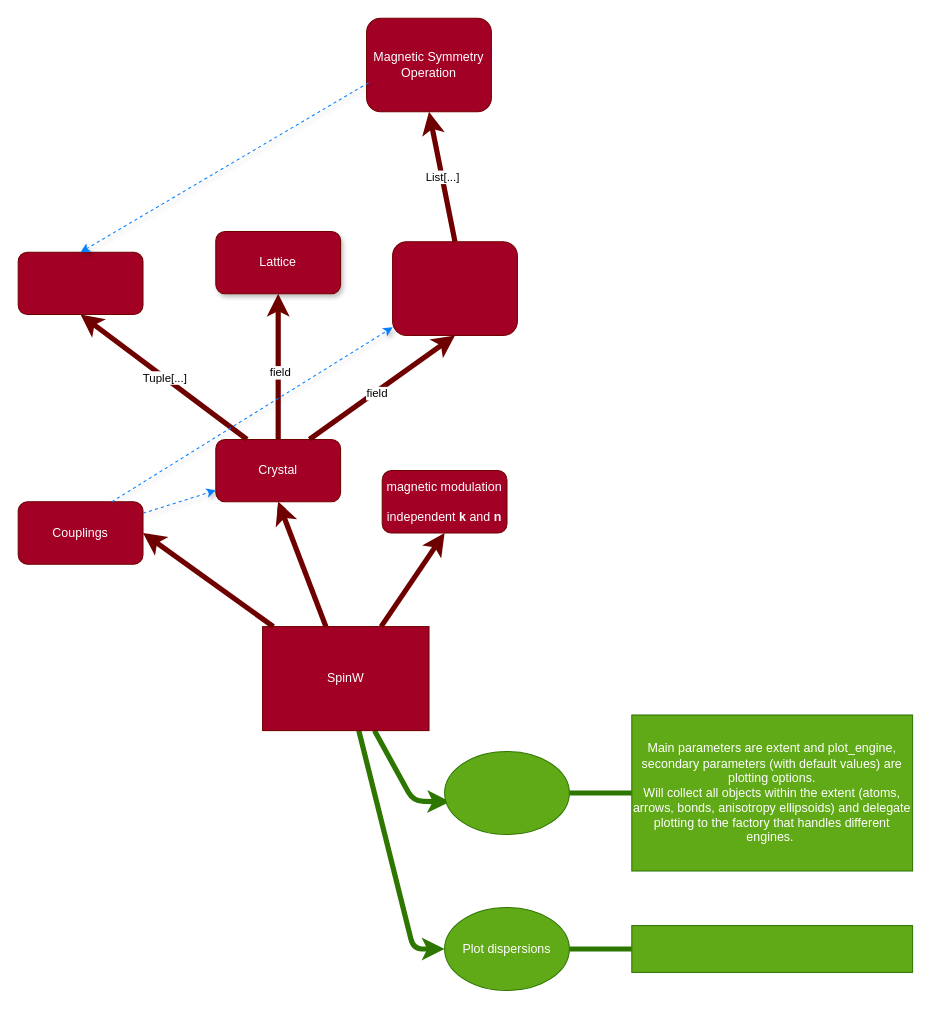
The diagram is 931 pixels wide and 1009 high, and some of its shapes have lost their labels. The centre of each missing label's shape, as x and y in pixels:
Atom: point 80,283
Magnetic Space Group: point 454,288
Plot spin wave excitations: point 772,948
Plot structure: point 506,792
